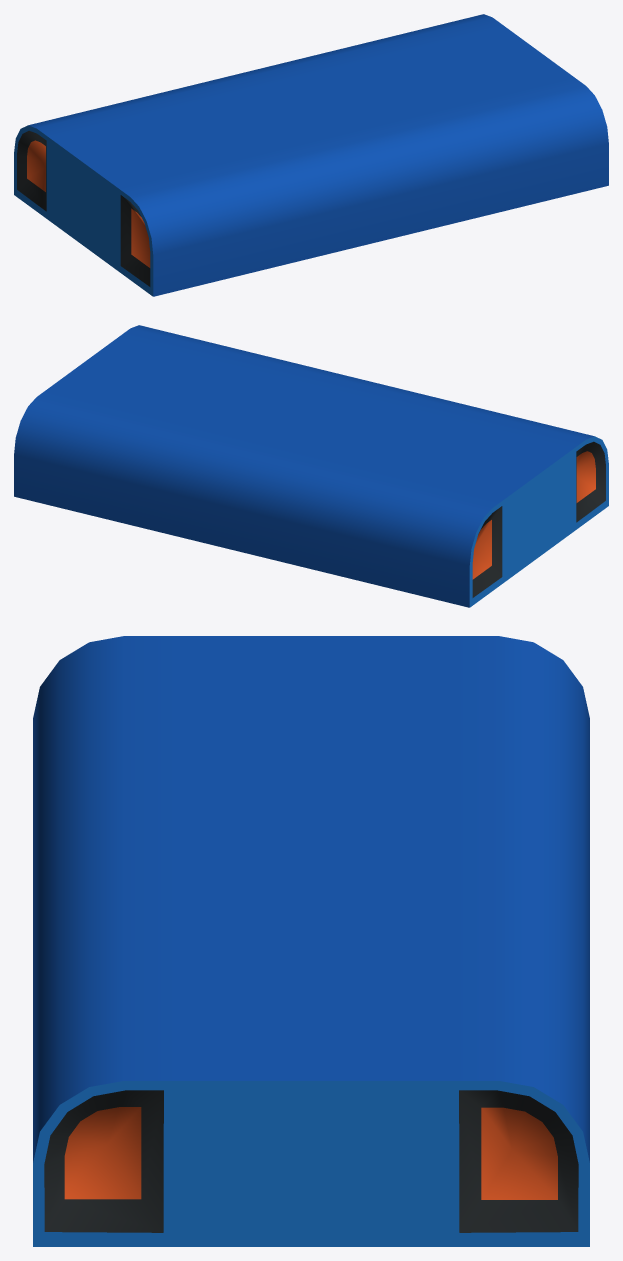
The model's file is Car_07_Turbine.fbx.
3 views of the same model, one above another, from view 1: azimuth 30°, elevation 25°; view 2: azimuth 150°, elevation 25°; view 3: azimuth 270°, elevation 25° (orthographic). The views are drawn at different scales.
Visible parts, largest first — view 1: Car_07_Turbine; view 2: Car_07_Turbine; view 3: Car_07_Turbine.
Part boxes in pixels (x1,y1,x2,y2): Car_07_Turbine: [14, 14, 608, 296]; Car_07_Turbine: [14, 325, 608, 607]; Car_07_Turbine: [33, 636, 589, 1246].
Size of the model in its own units: 204 by 108 by 35.52.
